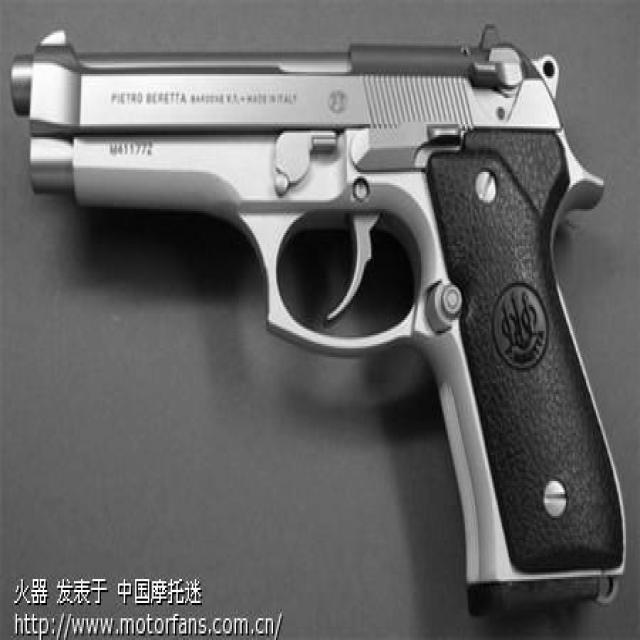gun: (10, 22, 626, 616)
